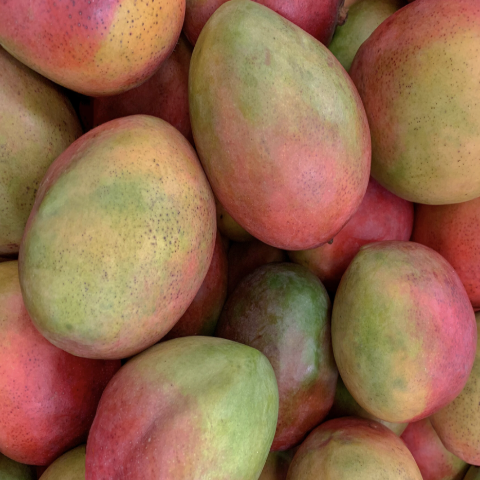mango: (150, 4, 413, 275), (5, 112, 224, 367), (87, 330, 299, 480), (324, 235, 475, 414)
